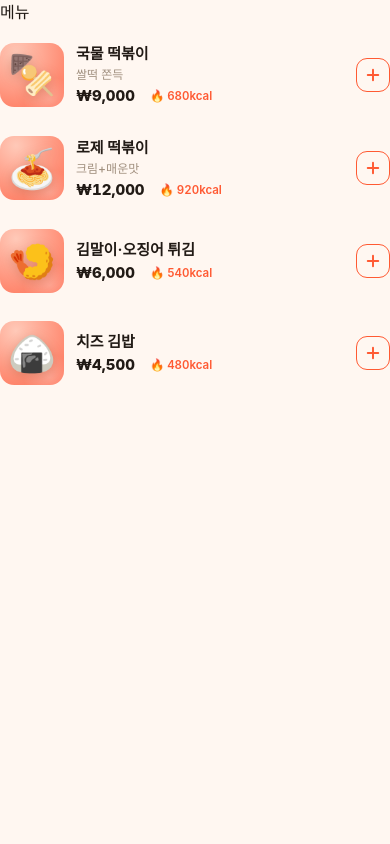
Test: ClearCartModal — store-switch confirm gate (D-09) › adding a different store item opens the confirm dialog
Click the button named "국물 떡볶이 담기". click: (373, 75)
box: [356,58,389,92]
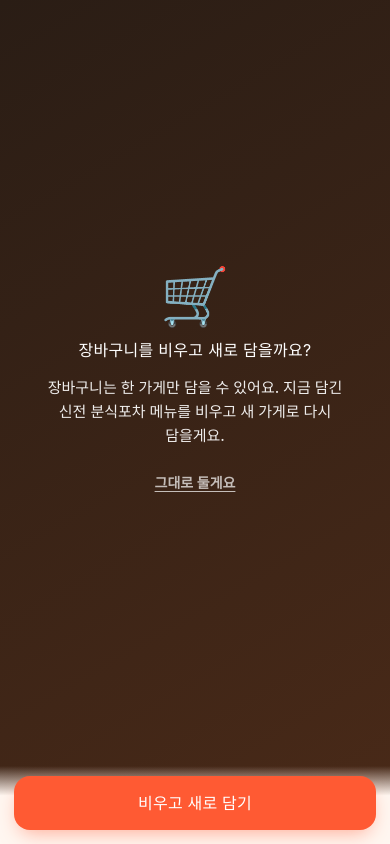
Expected: the dialog is shown
